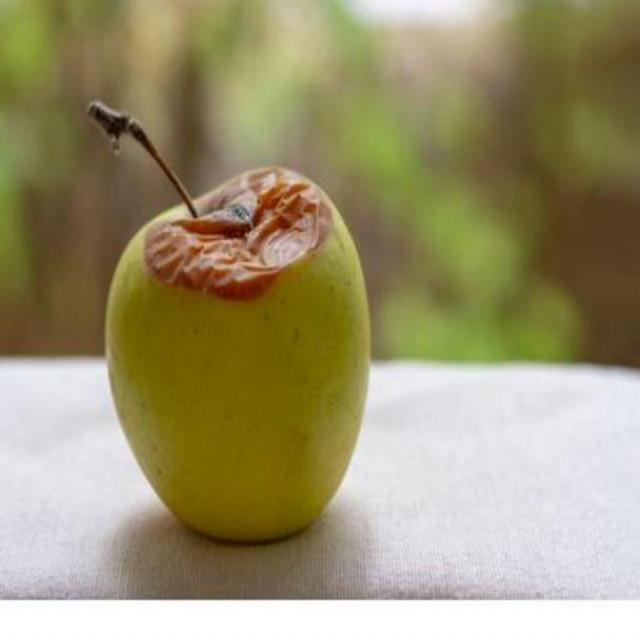ROT: (86, 136, 412, 560)
